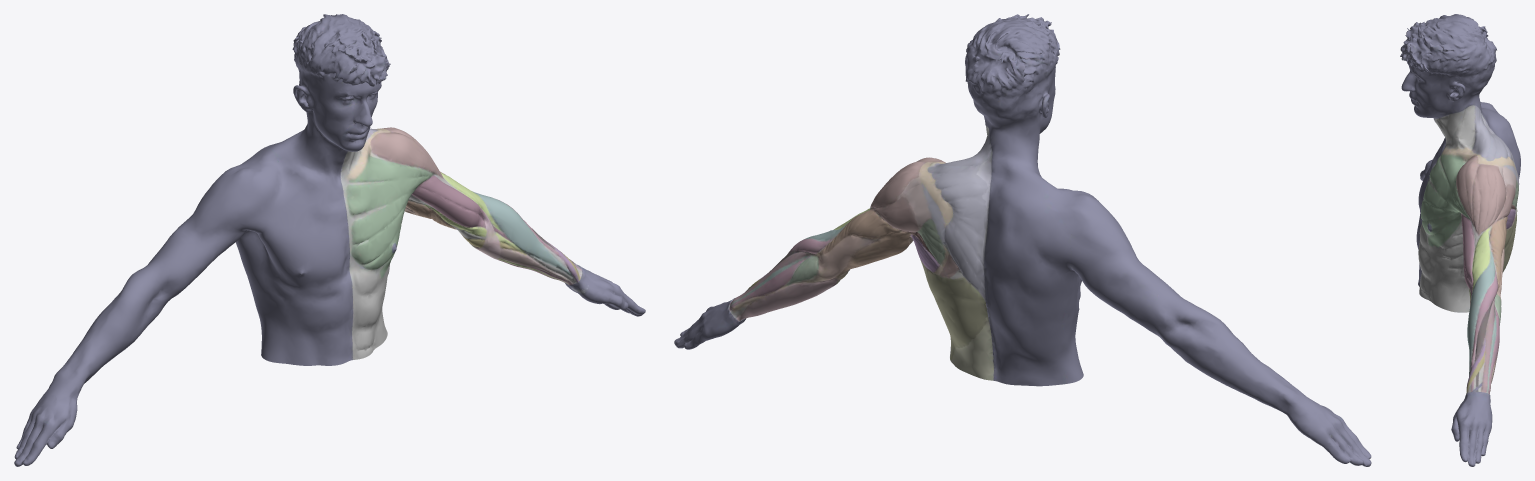
File: 人物其它_20260324184537_opt.glb
3 views of the same model, side by side, from view 1: azimuth 30°, elevation 25°; view 2: azimuth 150°, elevation 25°; view 3: azimuth 270°, elevation 25° (orthographic). The views are drawn at different scales.
Visible parts, largest first — view 1: APoseShellUv; view 2: APoseShellUv; view 3: APoseShellUv.
Boxes of the visible parts, x1,y1,x2,y2 form: APoseShellUv: (14,14,645,466); APoseShellUv: (674,14,1371,466); APoseShellUv: (1400,14,1520,466).
Bounding box in the file's own units: 0.7162 × 0.4 × 0.1367.
Materials: 2 (1 with a texture image).
